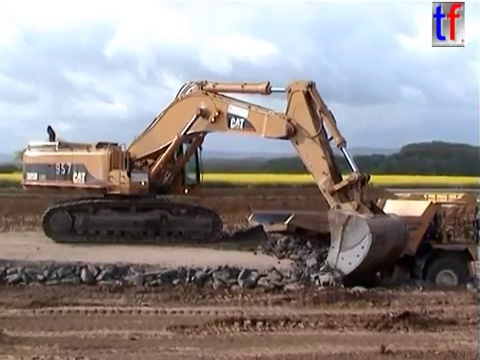excavator: (19, 77, 410, 288)
truck: (245, 190, 480, 306)
